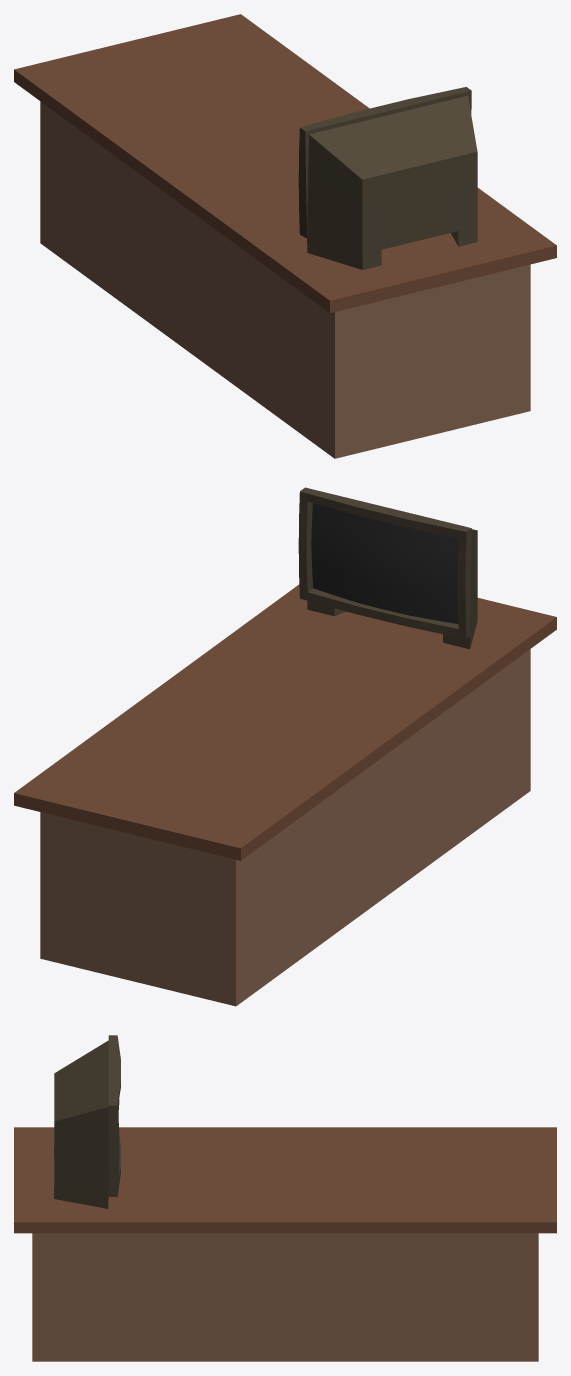
File: Caixao2.fbx
3 views of the same model, one above another, from view 1: azimuth 30°, elevation 25°; view 2: azimuth 150°, elevation 25°; view 3: azimuth 270°, elevation 25° (orthographic). The views are drawn at different scales.
Visible parts, largest first — view 1: Tumba, TV; view 2: Tumba, TV; view 3: Tumba, TV.
Boxes of the visible parts, x1=… form: Tumba: x1=14, y1=14, x2=556, y2=458; TV: x1=298, y1=87, x2=477, y2=269; Tumba: x1=14, y1=584, x2=556, y2=1006; TV: x1=298, y1=487, x2=477, y2=649; Tumba: x1=14, y1=1127, x2=556, y2=1361; TV: x1=54, y1=1035, x2=120, y2=1208.
Bounding box in the file's own units: 232 × 284 × 559.
